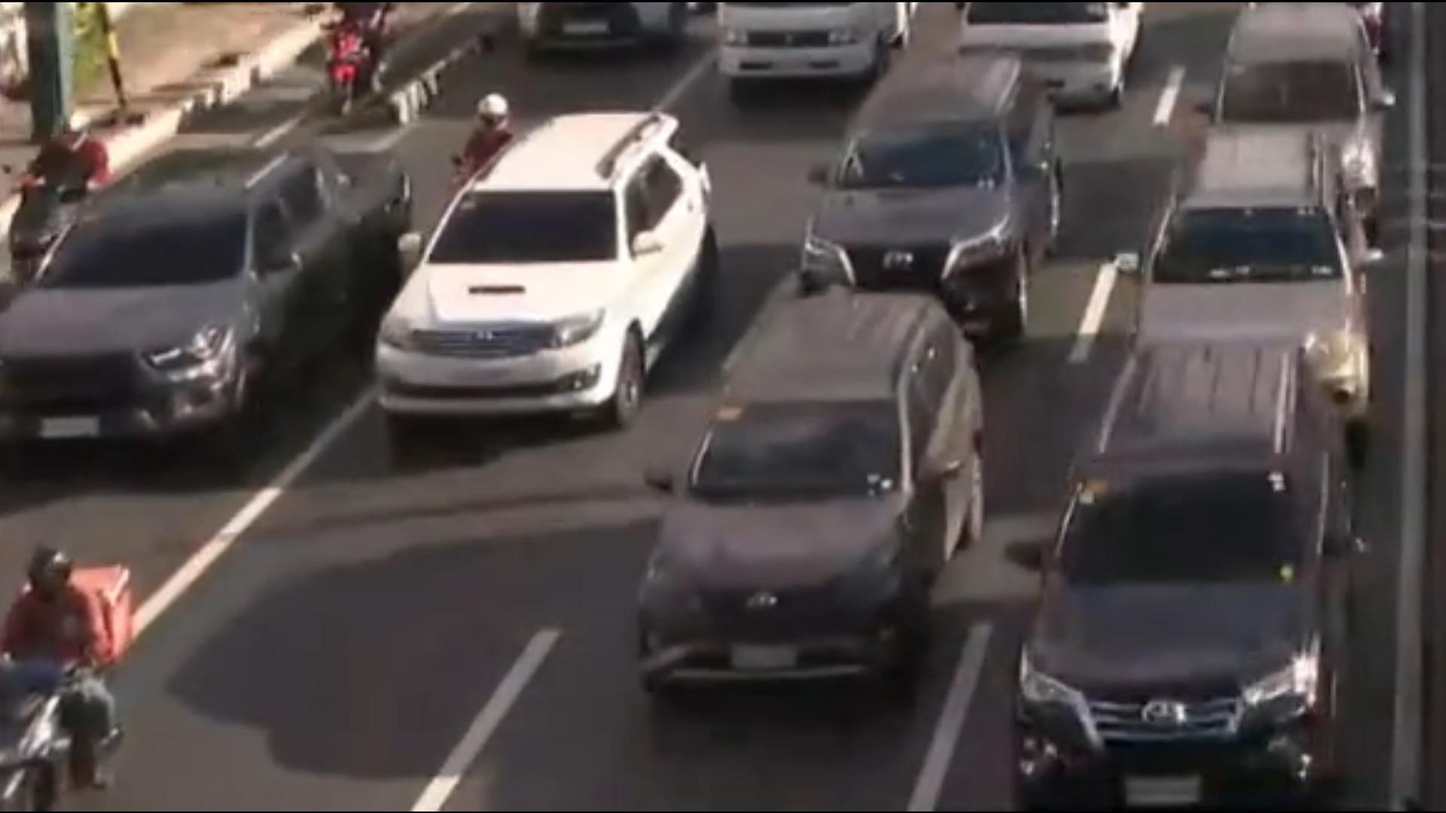Motorcycle: (0, 540, 141, 813), (0, 115, 122, 273), (442, 87, 527, 209)
Pickup: (2, 134, 413, 455)
SUV: (1022, 344, 1352, 813), (635, 295, 987, 691), (380, 113, 712, 429), (785, 56, 1062, 343), (1120, 128, 1369, 412), (1203, 0, 1371, 215)
